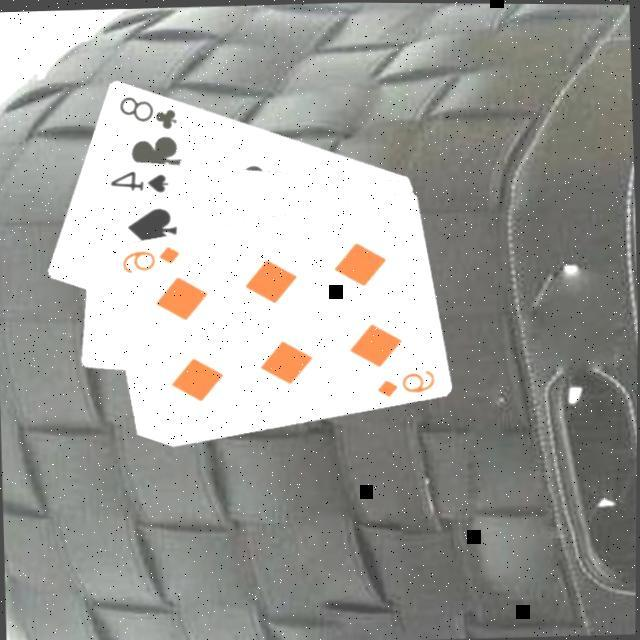4S: (107, 165, 173, 197)
6D: (374, 366, 440, 400), (120, 242, 184, 276)
8C: (116, 91, 182, 135)
